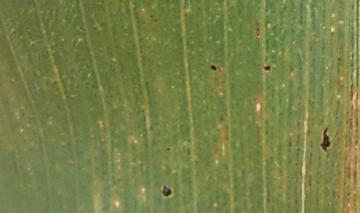tarspot: (319, 126, 332, 153), (161, 183, 173, 199), (263, 64, 272, 73), (208, 64, 218, 71), (288, 66, 294, 74), (165, 146, 172, 152), (336, 56, 343, 62), (255, 31, 261, 38), (350, 3, 355, 11), (153, 17, 159, 23), (254, 26, 260, 32)
